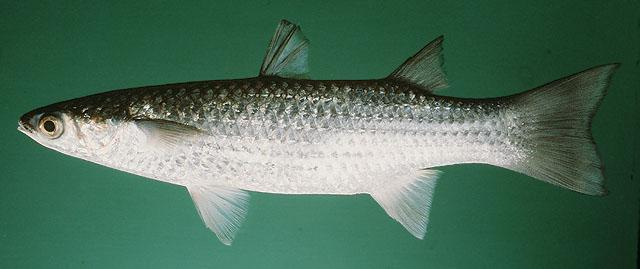Mulut: (10, 104, 42, 146)
Sirip Anal: (359, 162, 447, 242)
Sirip Dada: (127, 113, 210, 159)
Sirip Ekor: (516, 56, 626, 206)
Sirip Perut: (181, 176, 257, 252)
Sirip Punggung: (255, 13, 455, 96)
